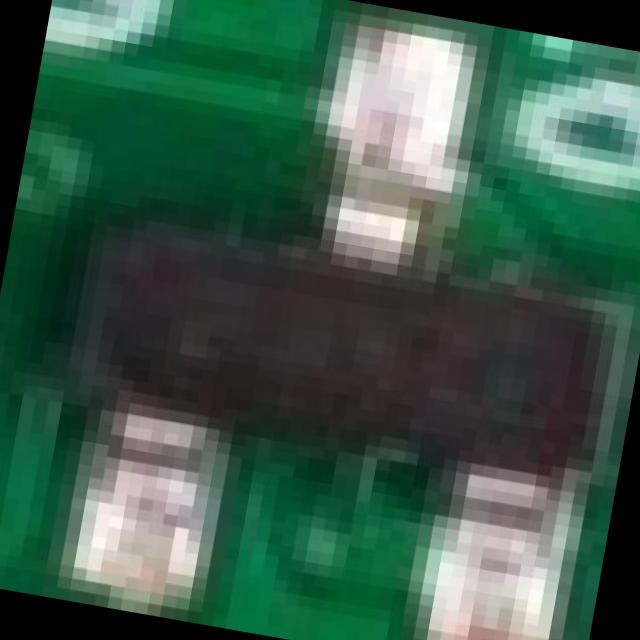transistor: (42, 33, 640, 607)
